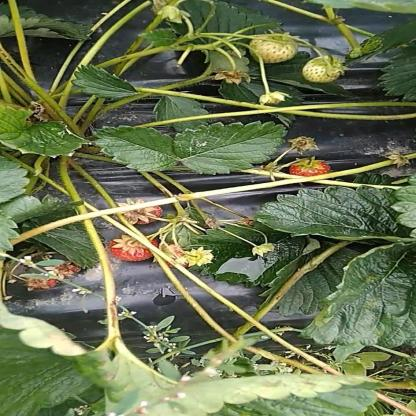ripe: (106, 235, 157, 263), (117, 199, 166, 225), (287, 158, 334, 180)
unripe: (298, 53, 353, 87), (246, 32, 300, 64)
